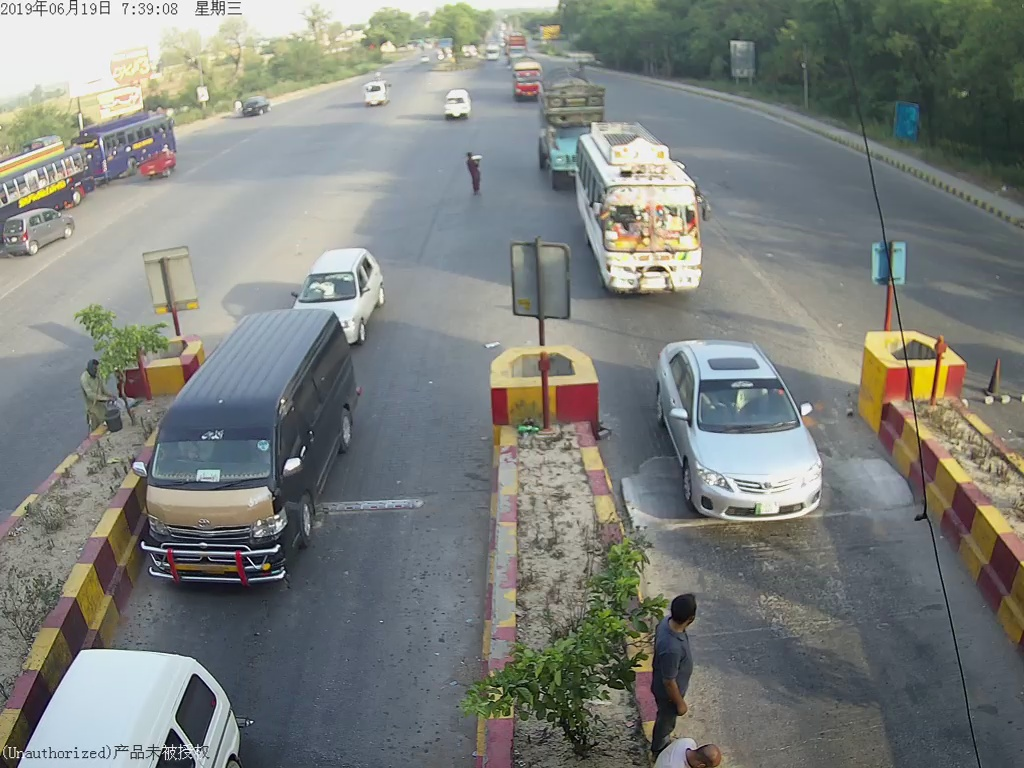Cat-1: (651, 337, 832, 527), (300, 244, 385, 339)
Cat-2: (138, 305, 361, 598)
Cat-3: (576, 117, 718, 296)
Cat-4: (529, 70, 612, 187)
